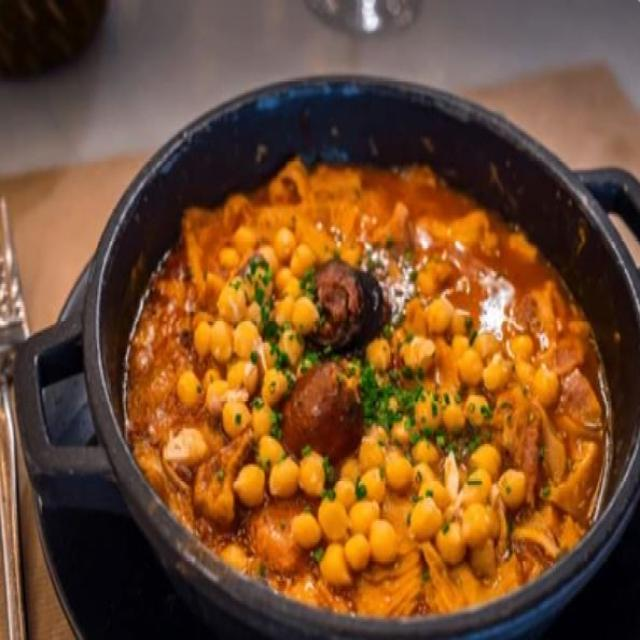Lablabi: (97, 44, 640, 640)
